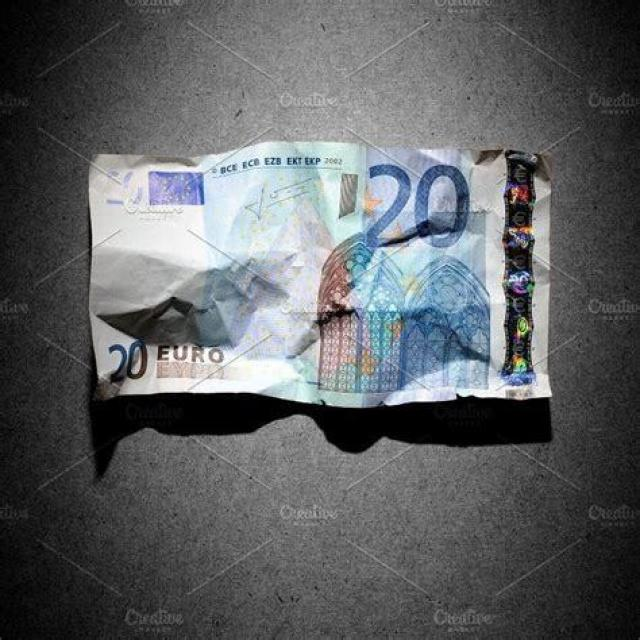banknote: (90, 138, 553, 412), (361, 161, 471, 256), (102, 336, 154, 390)
